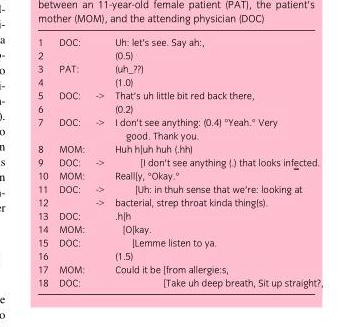table: (37, 37, 322, 287)
table column: (108, 37, 322, 287), (53, 37, 89, 287), (89, 37, 108, 287), (37, 37, 53, 287)
table row: (37, 115, 322, 142), (37, 48, 322, 62), (37, 88, 322, 102), (37, 181, 322, 195), (37, 195, 322, 209), (37, 222, 322, 236), (37, 262, 322, 276), (37, 62, 322, 75), (37, 75, 322, 88), (37, 102, 322, 115), (37, 142, 322, 155), (37, 155, 322, 168), (37, 168, 322, 181), (37, 209, 322, 222), (37, 236, 322, 249), (37, 249, 322, 262), (37, 37, 322, 48), (37, 276, 322, 287)
